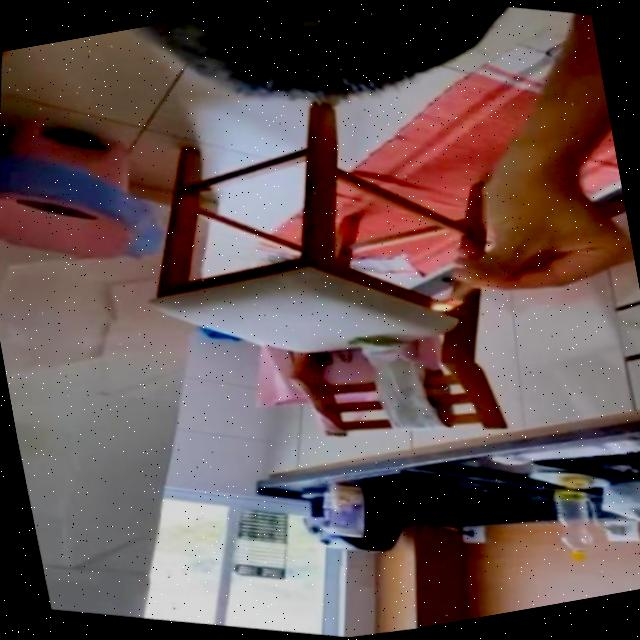fire: (423, 292, 463, 320)
